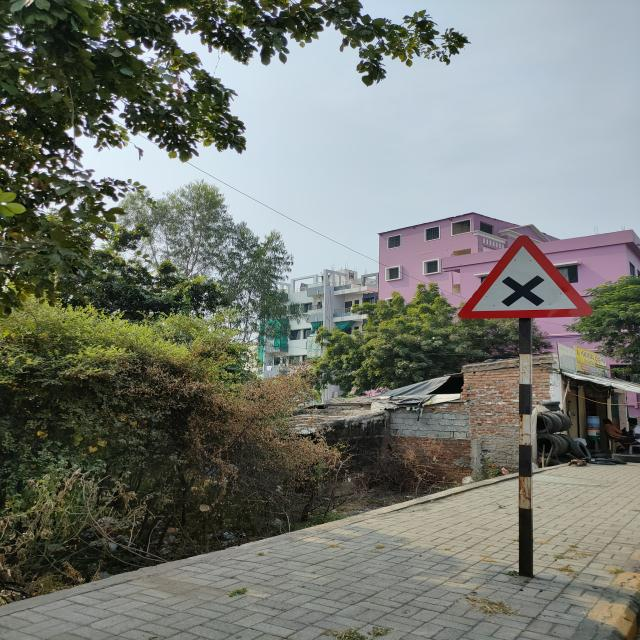cross_road: (455, 233, 597, 331)
